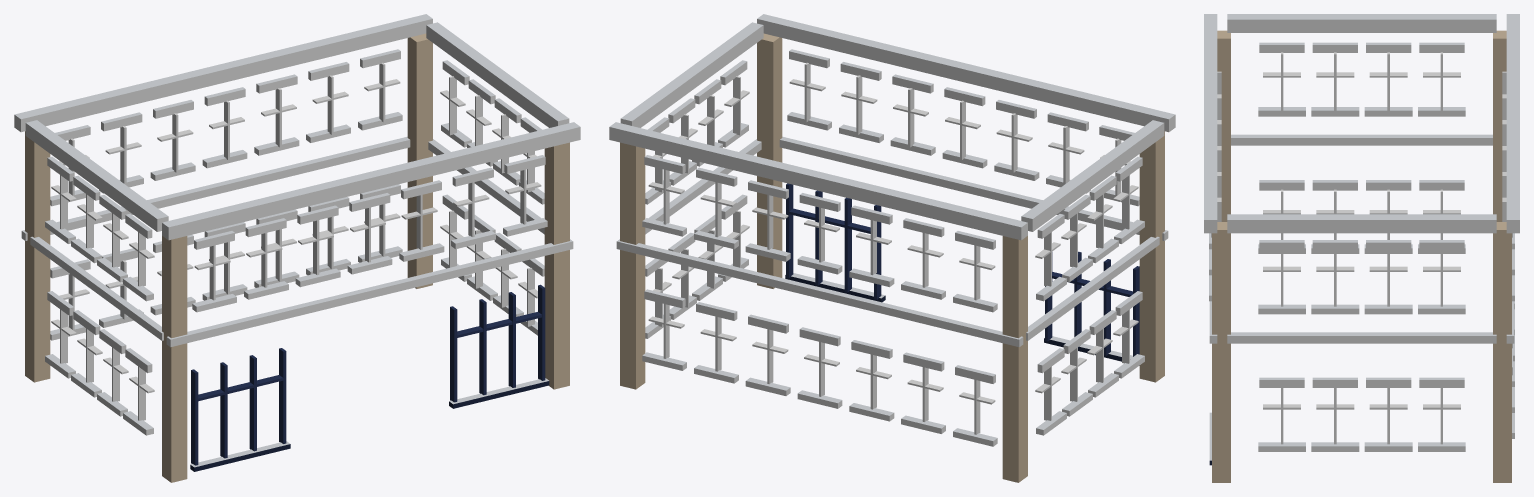
The model's file is PostOffice_Trim.glb.
3 views of the same model, side by side, from view 1: azimuth 30°, elevation 25°; view 2: azimuth 150°, elevation 25°; view 3: azimuth 270°, elevation 25° (orthographic). The views are drawn at different scales.
Parts seen in each view (by area): view 1: PostOffice_Trim; view 2: PostOffice_Trim; view 3: PostOffice_Trim.
Part boxes in pixels (x1,y1,x2,y2): PostOffice_Trim: (14, 14, 580, 482); PostOffice_Trim: (609, 14, 1175, 482); PostOffice_Trim: (1204, 14, 1519, 482).
Size of the model in its own units: 39.8 by 24 by 25.8.
